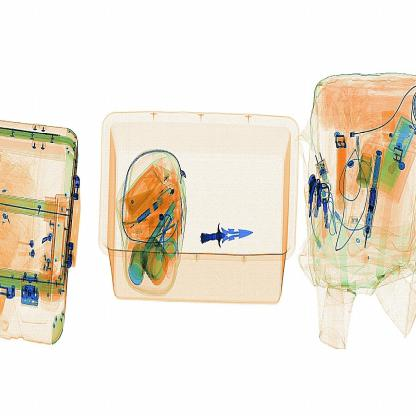wrench: (199, 219, 254, 250)
